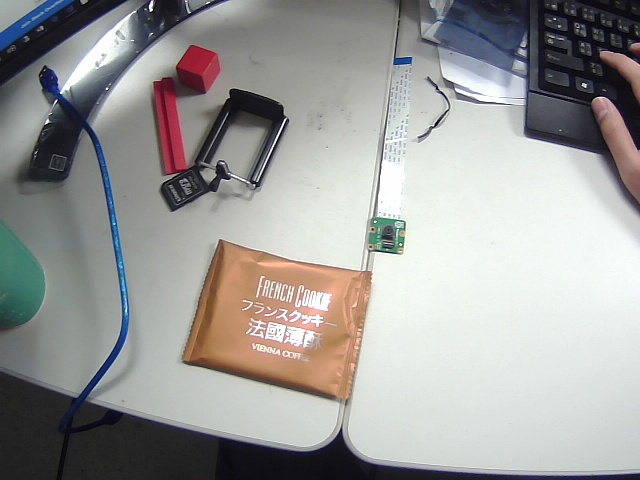frenchcookie: (180, 227, 396, 419)
